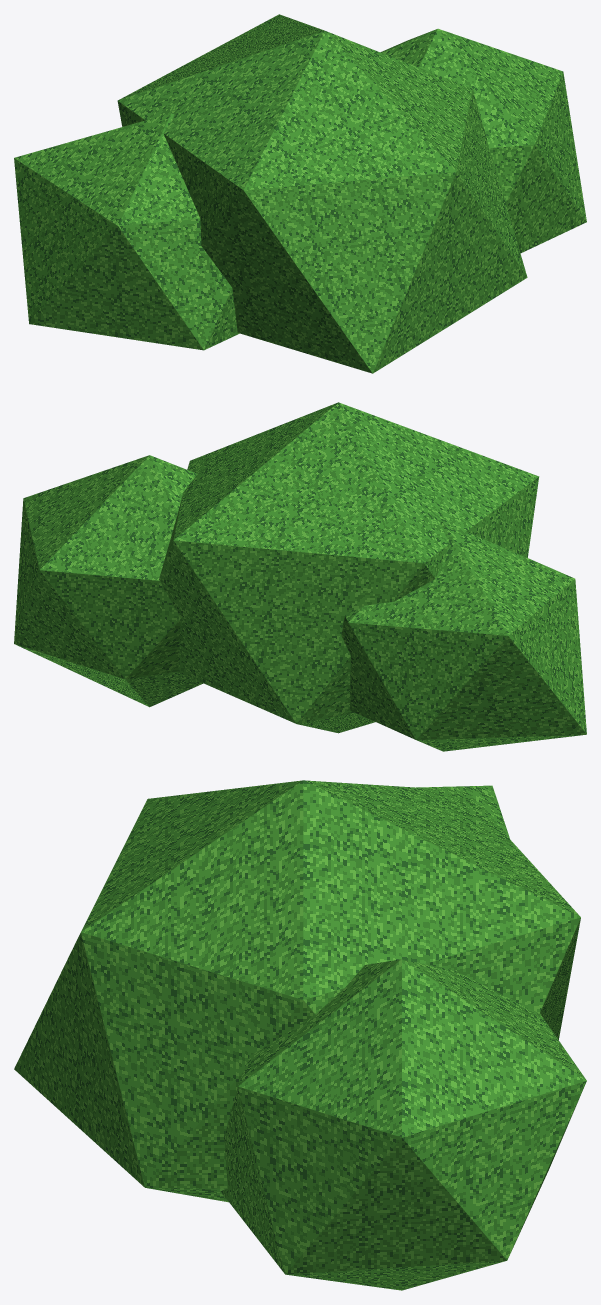
The model's file is bush_round.glb.
3 renders of one model, top to bottom at view 1: azimuth 30°, elevation 25°; view 2: azimuth 150°, elevation 25°; view 3: azimuth 270°, elevation 25°, orthographic. The views are drawn at different scales.
Visible parts, largest first — view 1: Body.030; view 2: Body.030; view 3: Body.030.
Boxes of the visible parts, left/top/right/bottom form: Body.030: left=14, top=14, right=586, bottom=373; Body.030: left=14, top=402, right=586, bottom=751; Body.030: left=14, top=780, right=586, bottom=1290.
Bounding box in the file's own units: 1.27 × 0.7314 × 0.8734.
Materials: 1 (1 with a texture image).
